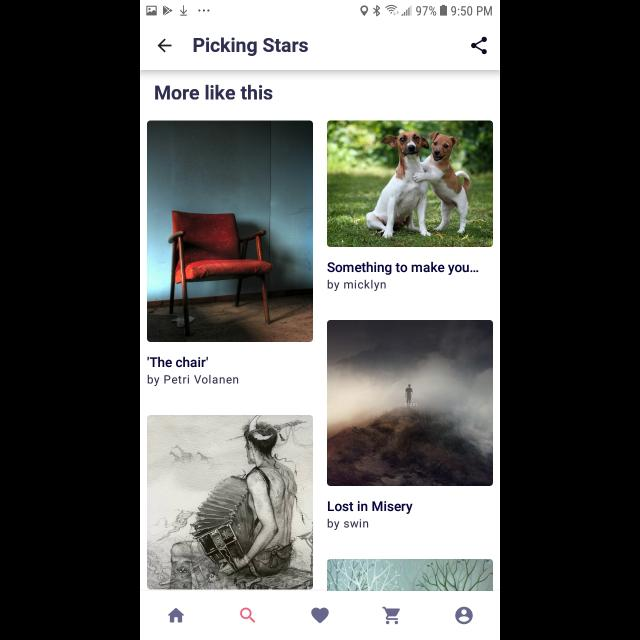icon: (455, 606, 473, 624), (382, 606, 400, 624), (311, 607, 329, 623), (471, 37, 487, 55), (240, 608, 256, 622), (168, 608, 184, 622), (158, 39, 172, 53)
image: (147, 121, 313, 343), (147, 414, 313, 590), (327, 320, 493, 486), (327, 120, 493, 248), (327, 559, 493, 591)
text: (328, 261, 478, 275), (194, 38, 308, 56), (155, 84, 273, 100), (328, 501, 412, 515), (148, 374, 238, 386), (326, 280, 386, 292), (148, 357, 208, 368), (328, 518, 368, 530)
uppertaskbar: (140, 1, 500, 17)
